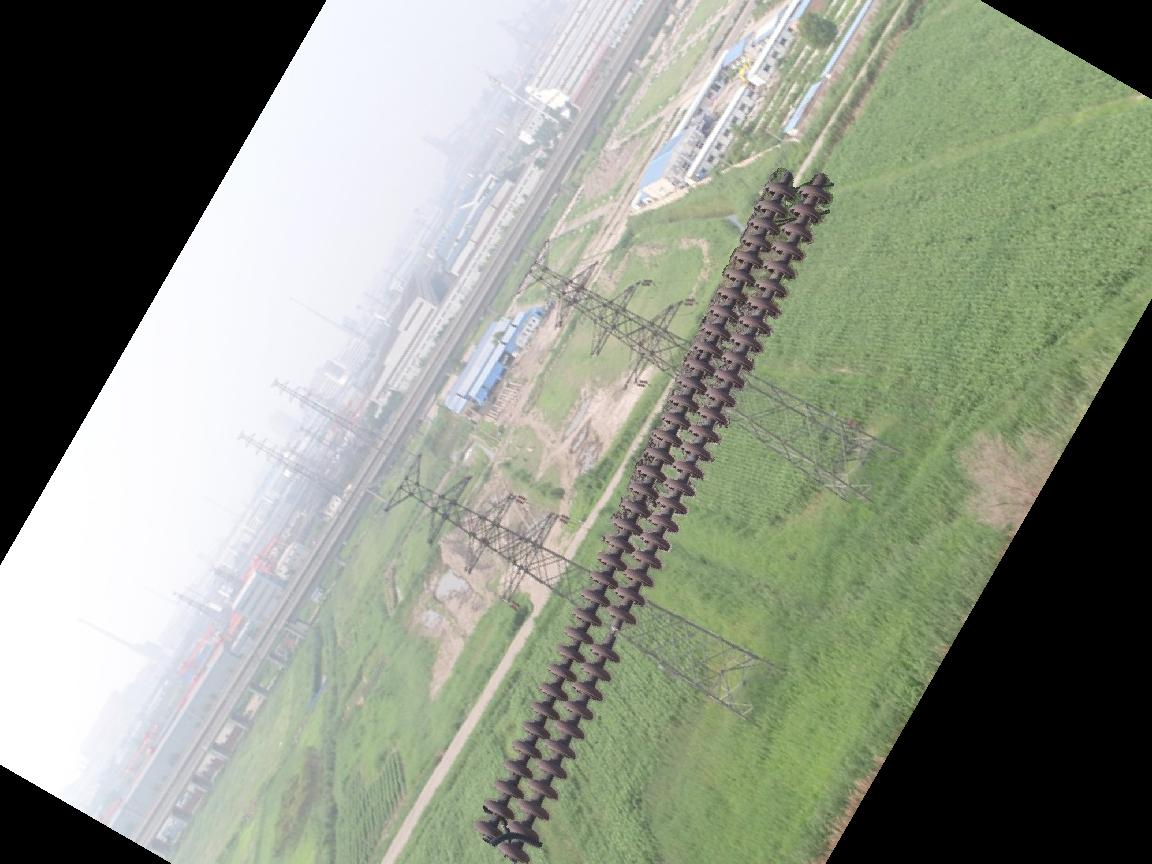insulator: (468, 164, 841, 861)
insulator_stringdrop: (586, 602, 639, 666)
